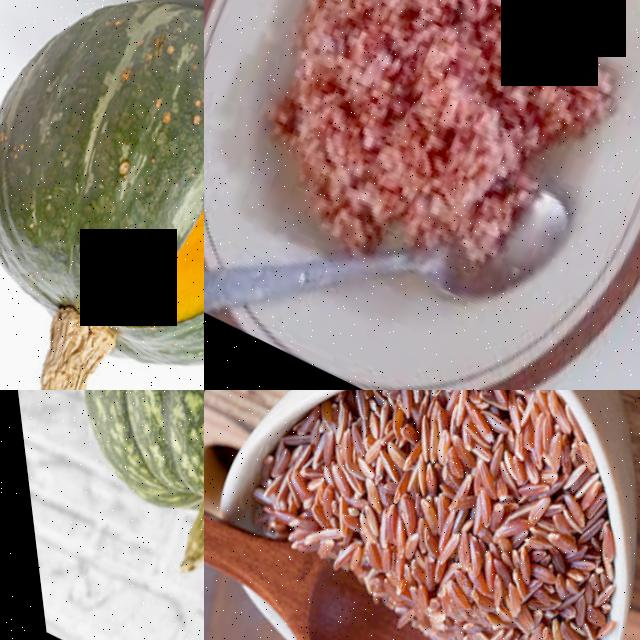pumpkin: (0, 0, 204, 390), (0, 390, 204, 614)
red rice: (308, 390, 640, 640)
